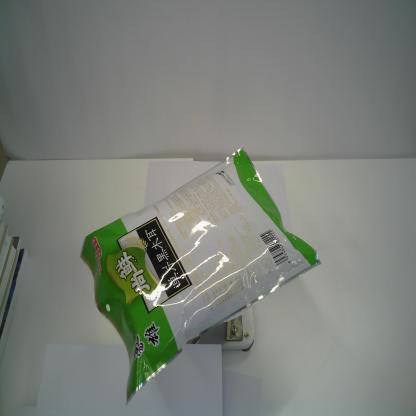Dried Food: (78, 145, 322, 407)
